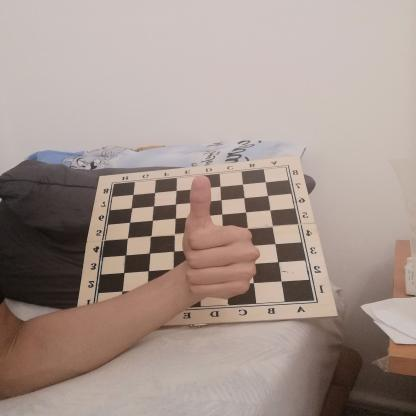ALIF: (158, 164, 272, 308)
